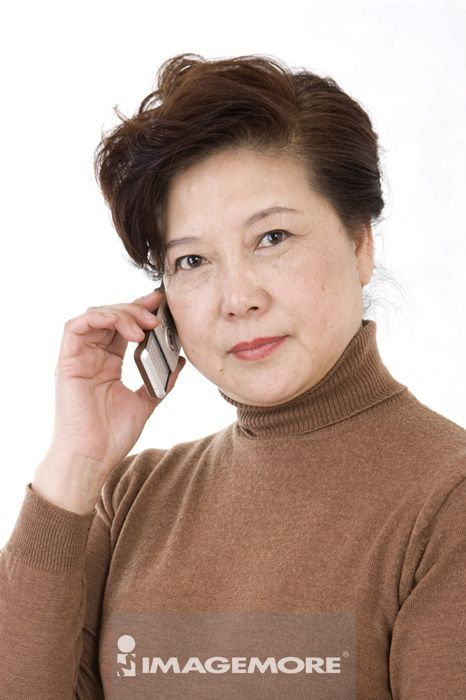talk: (43, 199, 305, 454)
